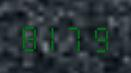eight: (18, 19, 40, 52)
nine: (87, 20, 109, 53)
one: (41, 19, 63, 52)
seven: (64, 19, 86, 53)
